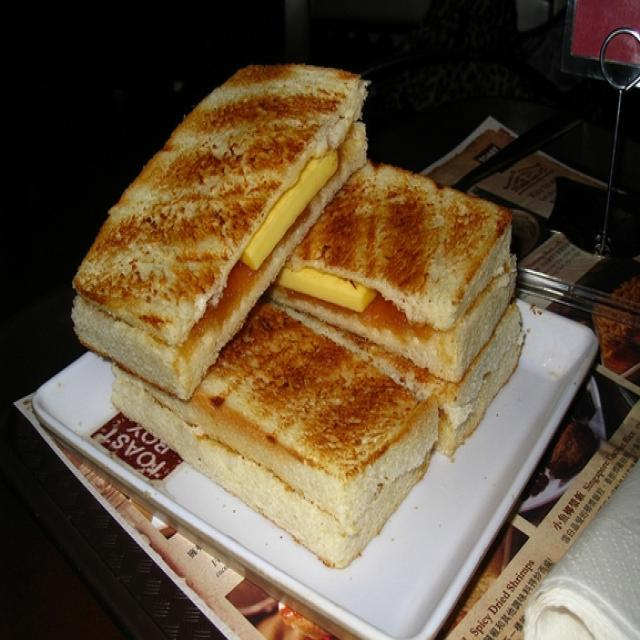面包点心: (35, 47, 598, 599)
